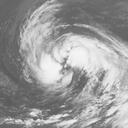cyclone: (22, 17, 103, 88)
